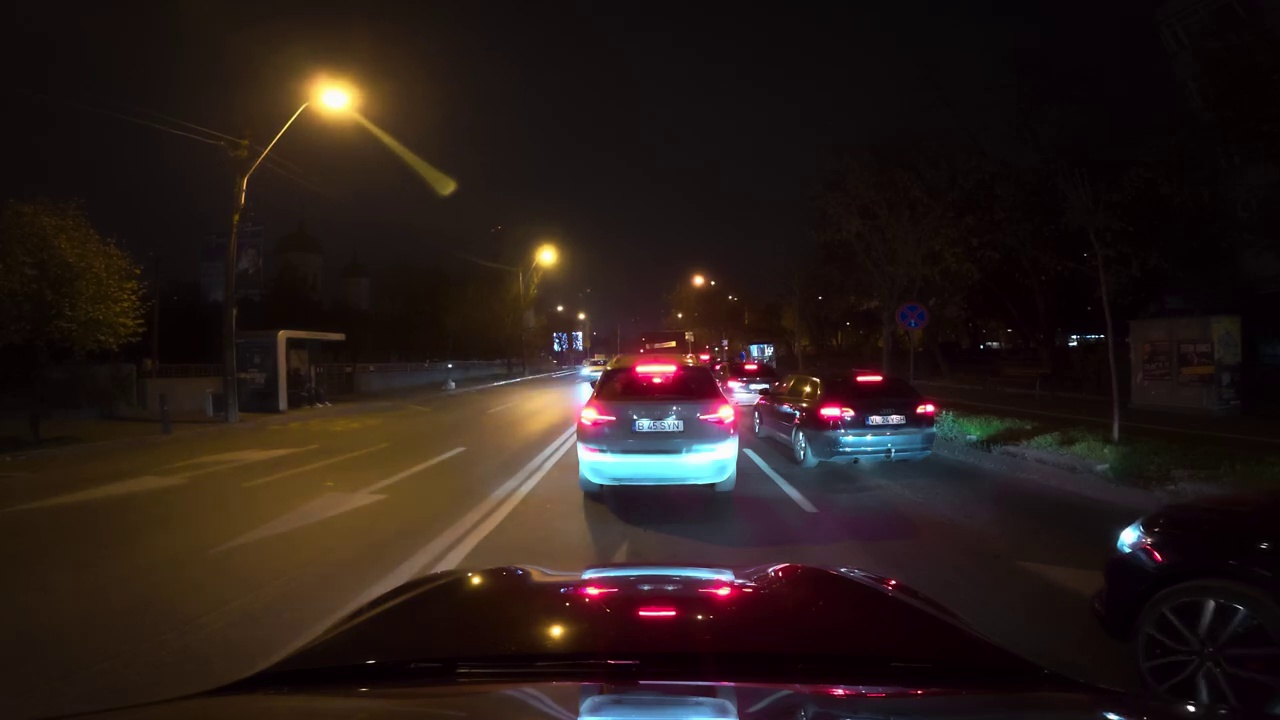acesa: (303, 74, 360, 129), (531, 242, 562, 271), (688, 270, 712, 293)
